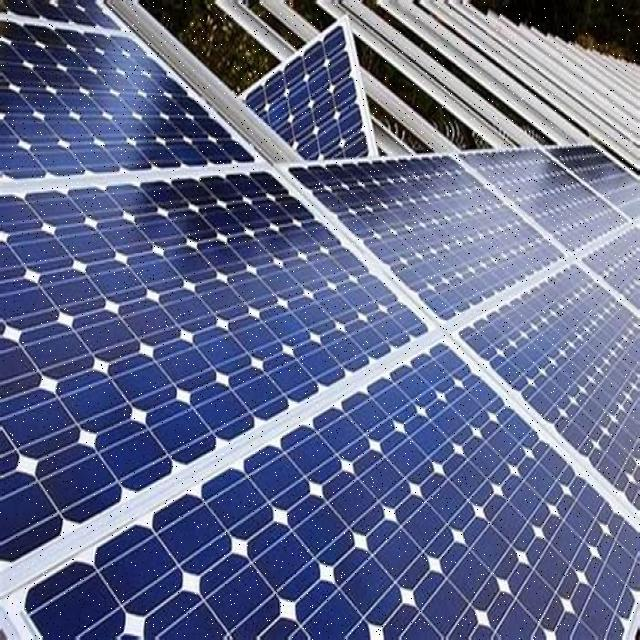clean: (2, 7, 640, 631), (254, 26, 364, 158)
